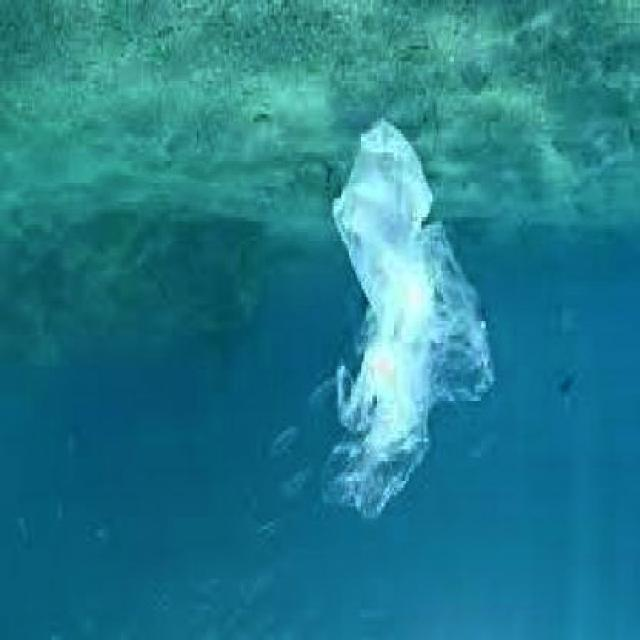pbag: (318, 110, 497, 522)
